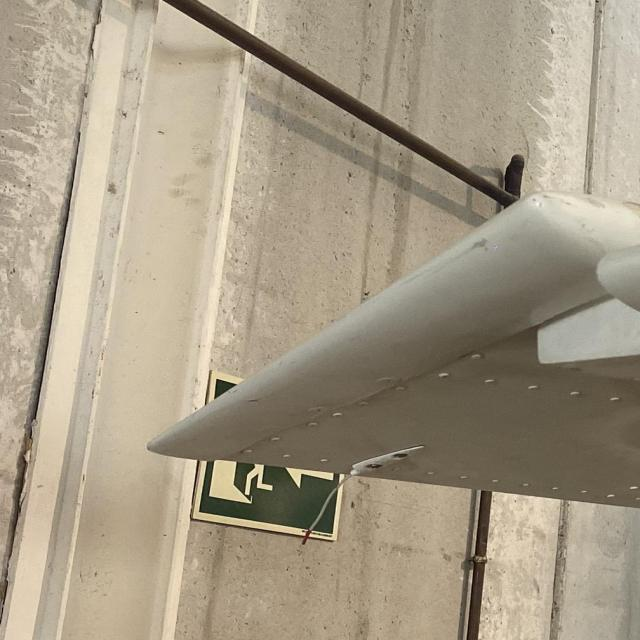Paint-off: (618, 201, 640, 221), (582, 195, 609, 210), (471, 237, 486, 251), (245, 398, 261, 403)
